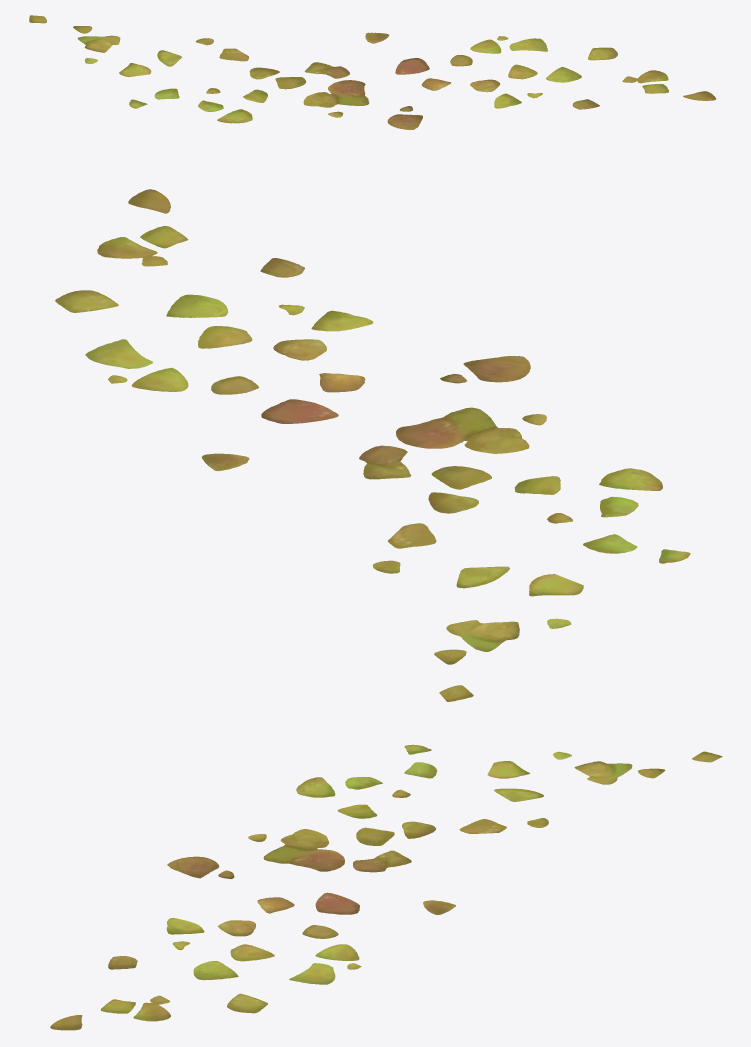
3 renders of one model, top to bottom at view 1: azimuth 30°, elevation 25°; view 2: azimuth 150°, elevation 25°; view 3: azimuth 270°, elevation 25°, orthographic. The views are drawn at different scales.
Size of the model in its own units: 8.85 by 0 by 9.29.
1 material, 1 textured.
